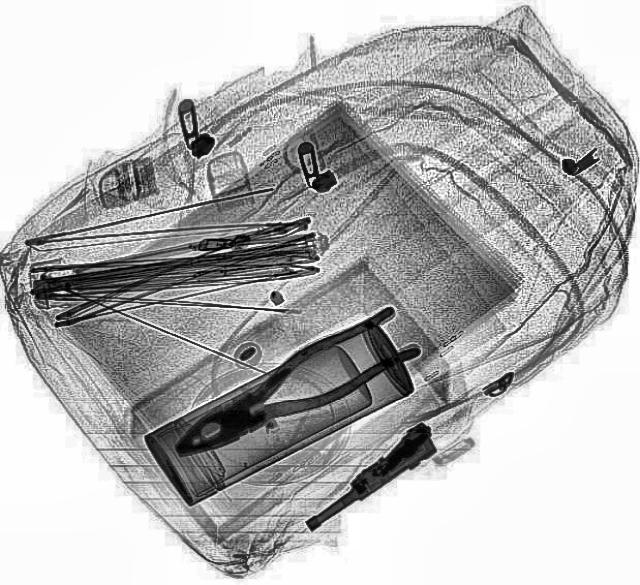Gun: (287, 418, 448, 536)
Pliers: (154, 302, 426, 474)
